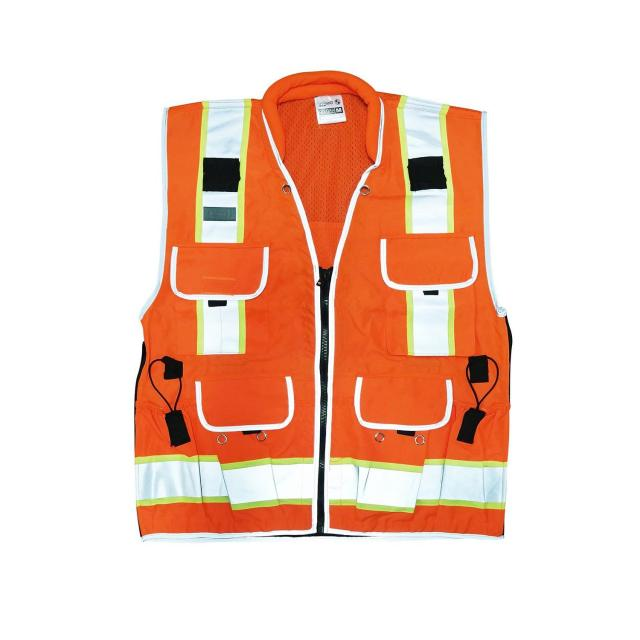Reflective-Jacket: (91, 63, 532, 556)
